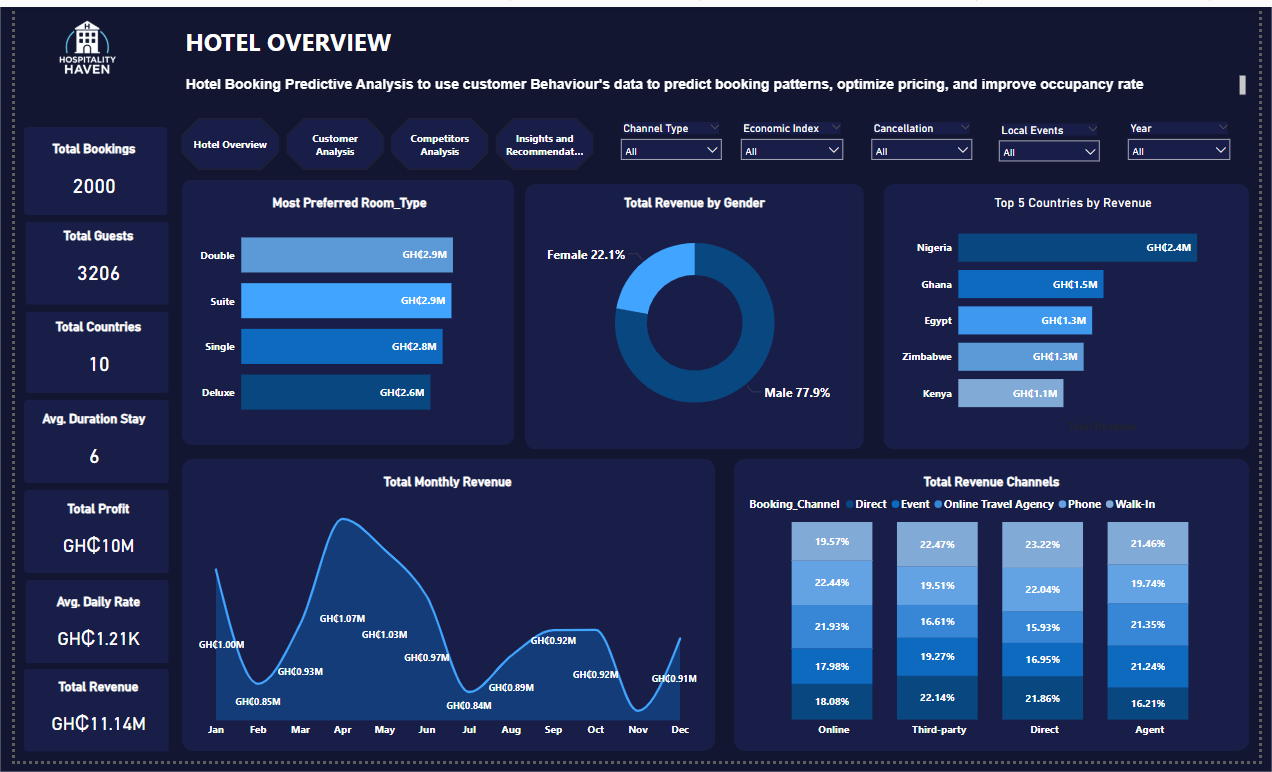

The page's visual inventory and layout, read from the dashboard file:
{"tool":"powerbi","page":{"name":"Hotel Overview","canvas":[1650,1000],"ordinal":0},"visuals":[{"type":"shape","box":[11,877,192.2,110.5],"z":0},{"type":"shape","box":[13.3,760,190,110.5],"z":1000},{"type":"shape","box":[11,640.7,192.2,110.5],"z":2000},{"type":"shape","box":[11,521.4,192.2,110.5],"z":3000},{"type":"shape","box":[13.3,404.3,190,108.2],"z":4000},{"type":"shape","box":[13.3,285,190,110.5],"z":5000},{"type":"shape","box":[11,159.1,190,117.1],"z":6000},{"type":"shape","box":[1151.9,234.8,485.4,352.1],"z":7000},{"type":"shape","box":[952.9,598.8,684.4,387.9],"z":8000},{"type":"shape","box":[676.4,234.8,449.6,352.1],"z":9000},{"type":"shape","box":[220.8,598.8,708.2,387.9],"z":10000},{"type":"shape","box":[220.8,228.8,441.7,352.1],"z":11000},{"type":"card","title":"Total Bookings","fields":{"Values":["MeasuresTable.Bookings Count"]},"box":[11,176.7,185.6,97.2],"z":12000},{"type":"card","title":"Total Guests","fields":{"Values":["MeasuresTable.Total Guest"]},"box":[17.7,291.6,185.6,97.2],"z":13000},{"type":"card","title":"Total Countries","fields":{"Values":["Count(Customertable.Nationality)"]},"box":[17.7,413.1,185.6,97.2],"z":14000},{"type":"card","title":"Avg. Duration Stay","fields":{"Values":["MeasuresTable.Average Stay"]},"box":[11,534.6,185.6,97.2],"z":15000},{"type":"card","title":"Total Profit","fields":{"Values":["MeasuresTable.Total Profit"]},"box":[17.7,653.9,185.6,97.2],"z":16000},{"type":"card","title":"Avg. Daily Rate","fields":{"Values":["MeasuresTable.Average Daily Rate"]},"box":[17.7,777.6,185.6,97],"z":17000},{"type":"card","title":"Total Revenue","fields":{"Values":["MeasuresTable.Total Revenue"]},"box":[17.7,890.3,185.6,97.2],"z":18000},{"type":"stackedAreaChart","title":"Total Monthly Revenue","fields":{"Category":["DateTable.Month Name"],"Y":["MeasuresTable.Total Revenue"]},"box":[238.7,618.7,670.4,358.1],"z":19000},{"type":"donutChart","fields":{"Category":["Customertable.Gender"],"Y":["MeasuresTable.Total Revenue"]},"box":[694.3,248.7,413.8,320.3],"z":20000},{"type":"hundredPercentStackedColumnChart","title":"Total Revenue Channels","fields":{"Category":["Channeltable.Channel_Type"],"Series":["Channeltable.Booking_Channel"],"Y":["MeasuresTable.Total Revenue"]},"box":[968.9,618.7,652.5,358.1],"z":21000},{"type":"barChart","title":"Top 5 Countries by Revenue","fields":{"Category":["Customertable.Nationality"],"Y":["MeasuresTable.Total Revenue"]},"box":[1169.8,248.7,467.5,320.3],"z":22000},{"type":"barChart","title":"Most Preferred Room_Type","fields":{"Category":["Bookingtable.Room_Type"],"Y":["MeasuresTable.Total Revenue"]},"box":[238.7,248.7,409.8,316.3],"z":23000},{"type":"textbox","box":[220.8,17.9,588.9,67.6],"z":24000},{"type":"slicer","fields":{"Values":["Channeltable.Channel_Type"]},"box":[793.8,147.2,153.2,69.6],"z":25000},{"type":"slicer","fields":{"Values":["Bookingtable.Economic_Index"]},"box":[952.9,147.2,155.2,69.6],"z":26000},{"type":"slicer","fields":{"Values":["Bookingtable.Cancellation"]},"box":[1126,147.2,153.2,69.6],"z":27000},{"type":"slicer","fields":{"Values":["Bookingtable.Local_Events"]},"box":[1295.1,149.2,153.2,67.6],"z":28000},{"type":"slicer","fields":{"Values":["DateTable.Year"]},"box":[1466.2,147.2,155.2,69.6],"z":29000},{"type":"pageNavigator","box":[220.8,147.2,547.1,69.6],"z":30000},{"type":"textbox","box":[220.8,85.5,1416.5,41.8],"z":31000},{"type":"image","box":[44.2,0,103.8,106],"z":32000}]}

Visuals, with their boxes in screenshot pixels (x1, y1, x2, y2), scaled from the page's 1650x1000 canvas onto the 1272x772 screenshot:
shape: BBox(8, 677, 157, 762)
shape: BBox(10, 587, 157, 672)
shape: BBox(8, 495, 157, 580)
shape: BBox(8, 403, 157, 488)
shape: BBox(10, 312, 157, 396)
shape: BBox(10, 220, 157, 305)
shape: BBox(8, 123, 155, 213)
shape: BBox(888, 181, 1262, 453)
shape: BBox(735, 462, 1262, 762)
shape: BBox(521, 181, 868, 453)
shape: BBox(170, 462, 716, 762)
shape: BBox(170, 177, 511, 448)
"Total Bookings" card: BBox(8, 136, 152, 211)
"Total Guests" card: BBox(14, 225, 157, 300)
"Total Countries" card: BBox(14, 319, 157, 394)
"Avg. Duration Stay" card: BBox(8, 413, 152, 488)
"Total Profit" card: BBox(14, 505, 157, 580)
"Avg. Daily Rate" card: BBox(14, 600, 157, 675)
"Total Revenue" card: BBox(14, 687, 157, 762)
"Total Monthly Revenue" stackedAreaChart: BBox(184, 478, 701, 754)
donutChart - Customertable.Gender x MeasuresTable.Total Revenue: BBox(535, 192, 854, 439)
"Total Revenue Channels" hundredPercentStackedColumnChart: BBox(747, 478, 1250, 754)
"Top 5 Countries by Revenue" barChart: BBox(902, 192, 1262, 439)
"Most Preferred Room_Type" barChart: BBox(184, 192, 500, 436)
textbox: BBox(170, 14, 624, 66)
slicer - Channeltable.Channel_Type: BBox(612, 114, 730, 167)
slicer - Bookingtable.Economic_Index: BBox(735, 114, 854, 167)
slicer - Bookingtable.Cancellation: BBox(868, 114, 986, 167)
slicer - Bookingtable.Local_Events: BBox(998, 115, 1117, 167)
slicer - DateTable.Year: BBox(1130, 114, 1250, 167)
pageNavigator: BBox(170, 114, 592, 167)
textbox: BBox(170, 66, 1262, 98)
image: BBox(34, 0, 114, 82)
